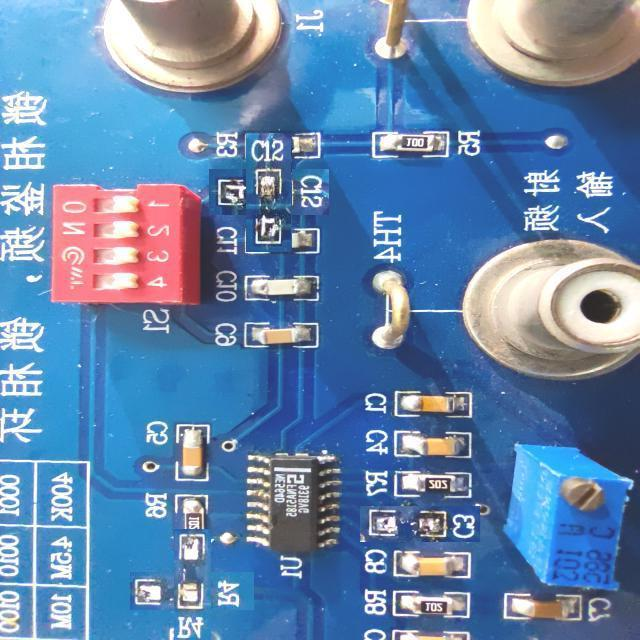miss_welding: (228, 151, 310, 234), (152, 550, 232, 632), (359, 505, 480, 542)
